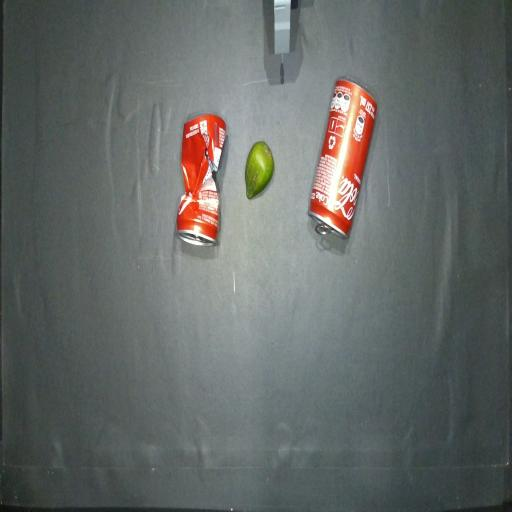higo: (245, 141, 274, 199)
lata: (308, 78, 377, 238)
lata_defectuoso: (177, 113, 226, 245)
